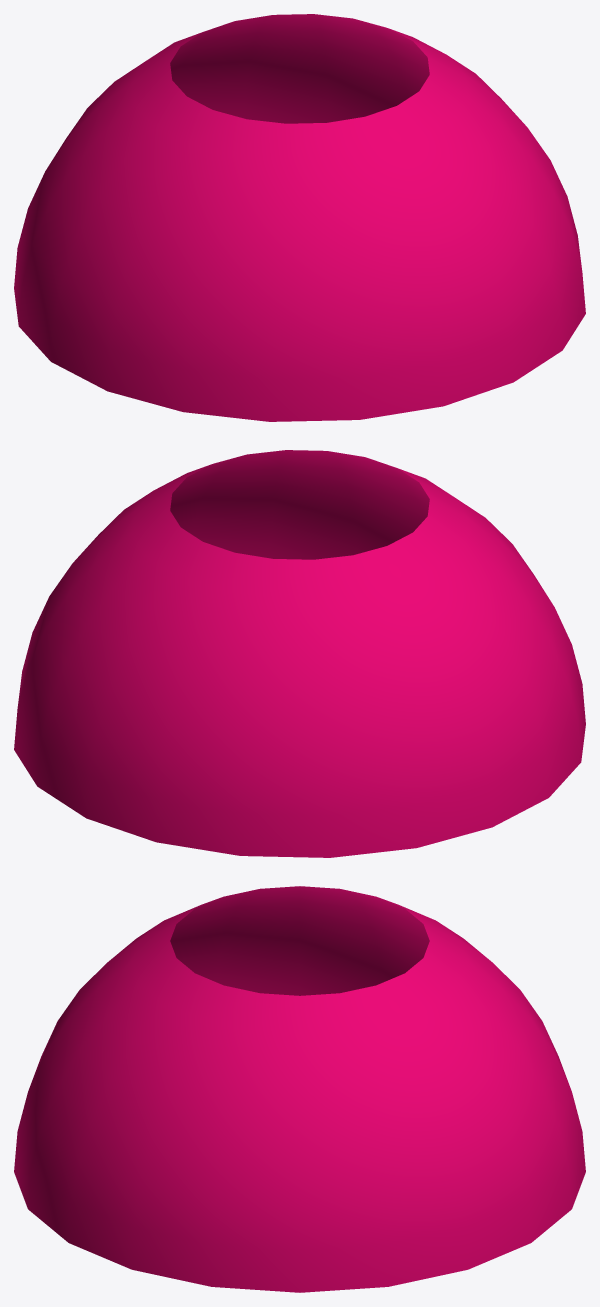
File: SkyDome.fbx
3 renders of one model, top to bottom at view 1: azimuth 30°, elevation 25°; view 2: azimuth 150°, elevation 25°; view 3: azimuth 270°, elevation 25°, orthographic.
Parts seen in each view (by area): view 1: SkyDome; view 2: SkyDome; view 3: SkyDome.
Boxes of the visible parts, box(x1,y1,x2,y2) form: SkyDome: box(14, 14, 585, 421); SkyDome: box(14, 450, 585, 857); SkyDome: box(14, 886, 585, 1292).
Bounding box in the file's own units: 32794 × 14610 × 32794.
